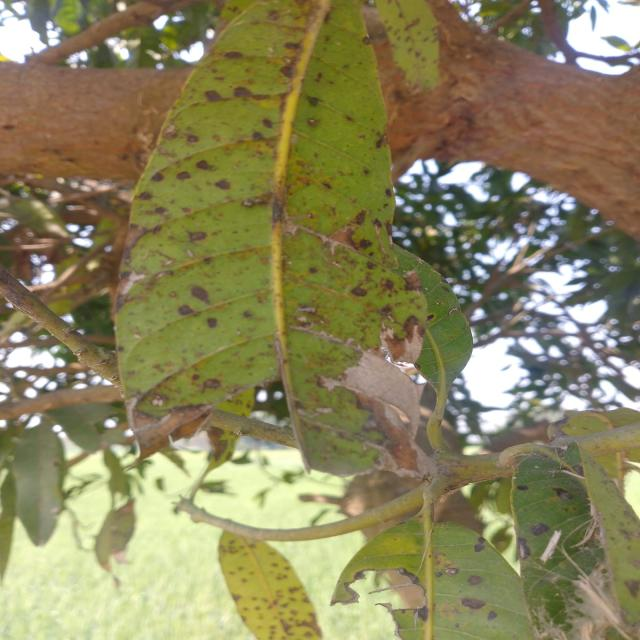Anthracnose: (192, 70, 302, 123), (148, 155, 246, 201), (176, 280, 229, 321)
Bacterial Cancer: (336, 316, 448, 458)
